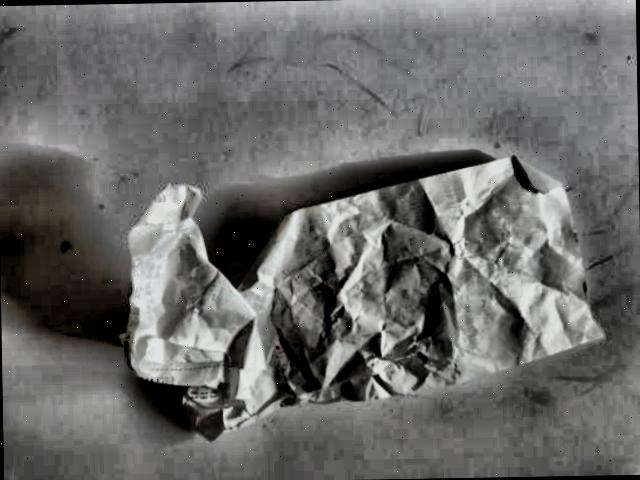Paper: (120, 147, 613, 448)
